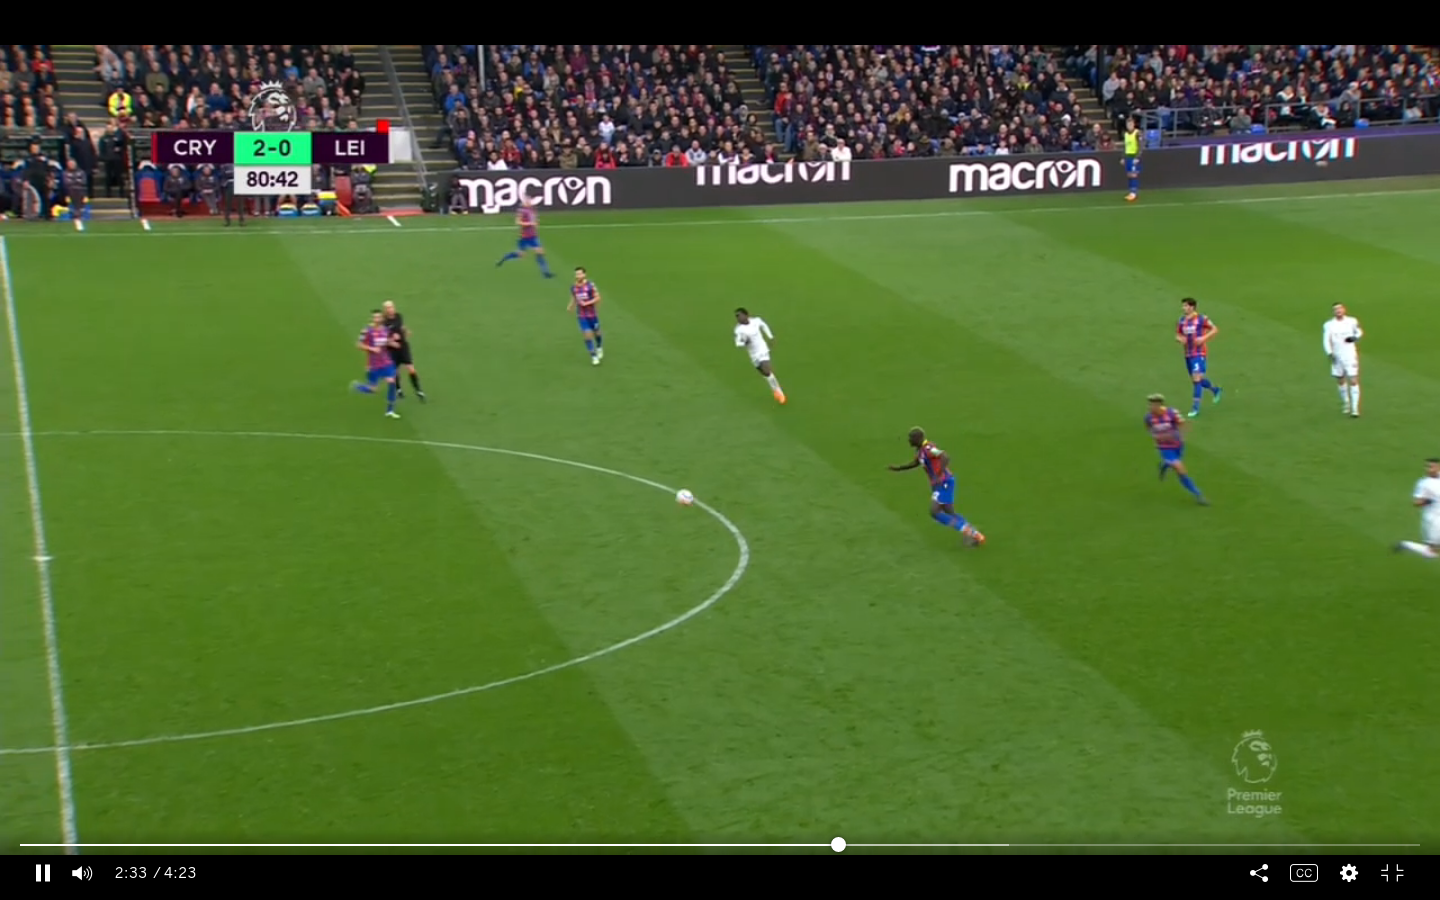referee: (378, 296, 428, 405)
soccer player: (882, 416, 992, 556), (1138, 391, 1212, 511), (1316, 292, 1375, 425), (727, 303, 795, 416), (1167, 289, 1224, 422), (488, 191, 564, 285), (342, 309, 402, 422), (556, 262, 613, 376), (1388, 453, 1440, 566)
soccerball: (673, 482, 698, 512)
